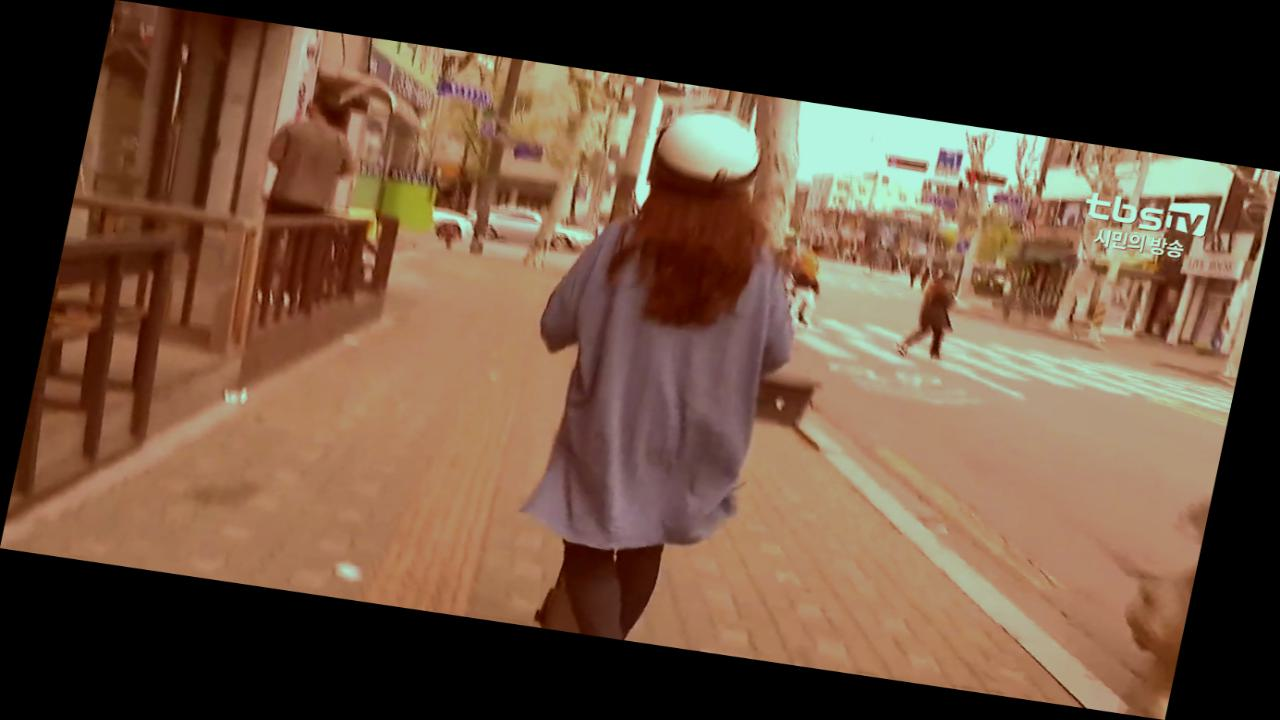helmet: (472, 90, 848, 657)
